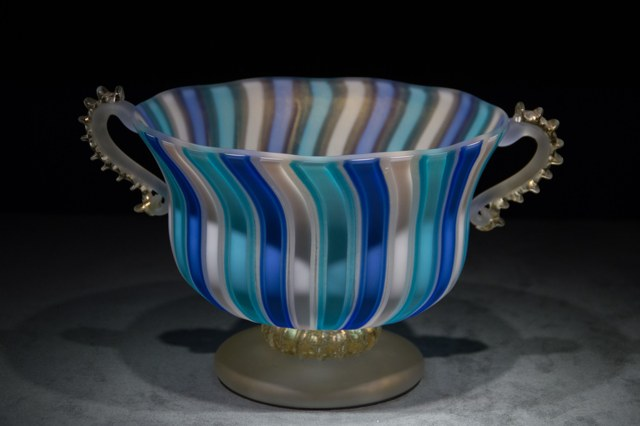bowl: (77, 77, 564, 408)
